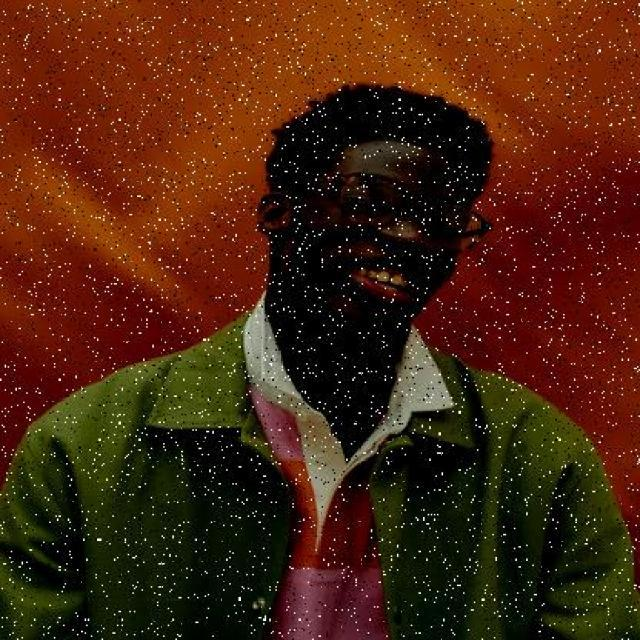mask: (315, 172, 500, 266)
